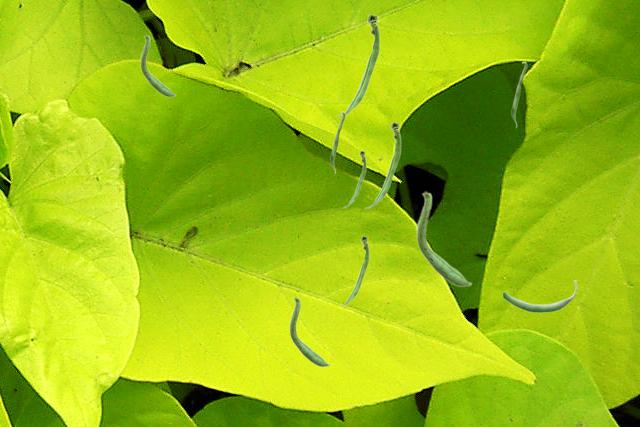french_bean: (416, 190, 471, 286), (335, 13, 379, 117), (364, 121, 400, 208), (289, 296, 329, 366), (502, 280, 576, 312), (140, 34, 175, 96), (339, 235, 368, 305), (342, 150, 365, 207), (511, 61, 526, 127), (330, 111, 344, 173)
